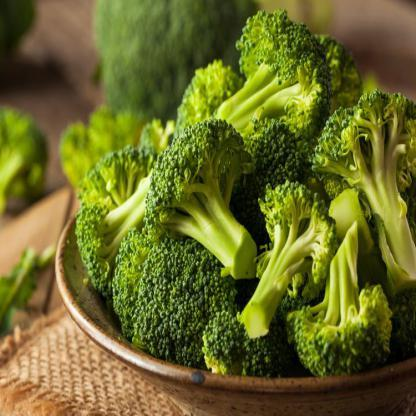broccoli: (78, 7, 416, 377)
